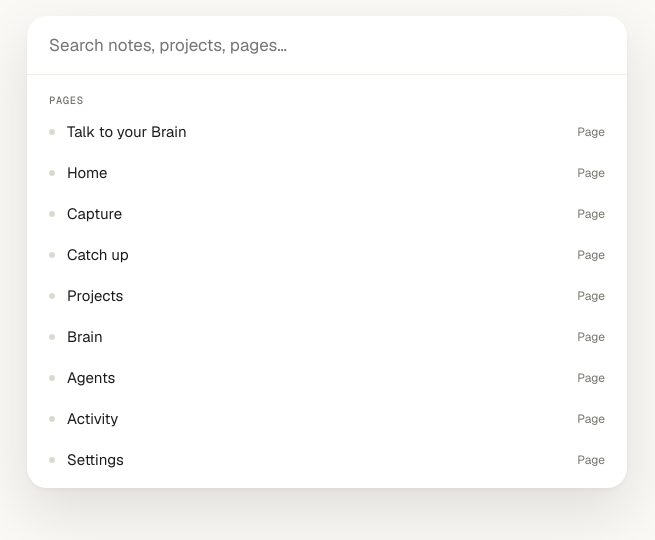
Test: Search › lists the app's pages before anything is typed, and filters them
This screenshot has width=655, height=540.
Expected: the text "Capture" is shown, [67,204,122,223]
Type "S" into the search field.
click(327, 46); type("S")  # box [27,16,627,75]
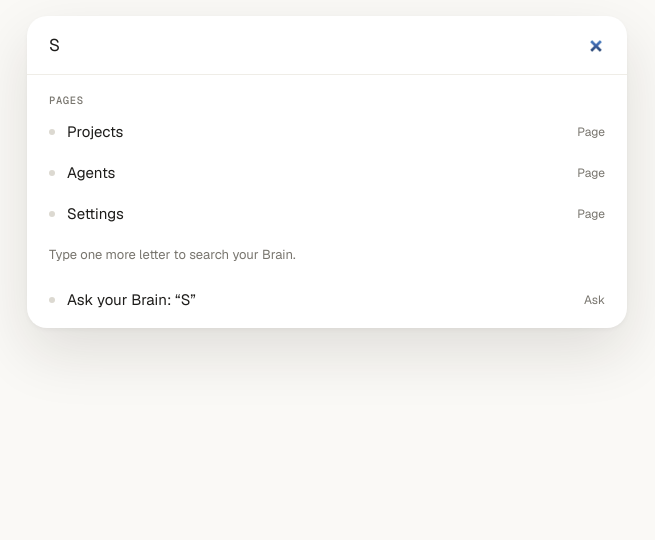
Expected: the text "Settings" is shown, [67,204,124,223]
Now the text "Type one more letter to search your Brain." is shown, box [49,246,296,263]
